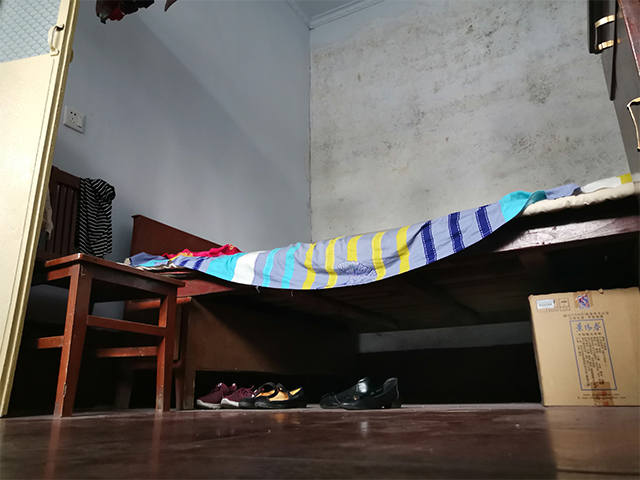bed: (126, 172, 640, 415)
stool: (20, 162, 185, 419)
